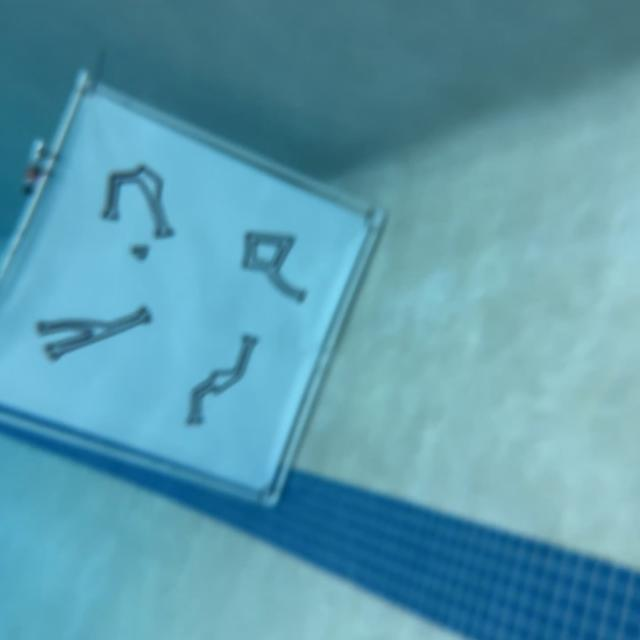abydos: (184, 332, 262, 428), (34, 303, 154, 362)
buoy: (0, 92, 375, 486)
earth: (98, 163, 176, 263), (240, 229, 310, 306)
